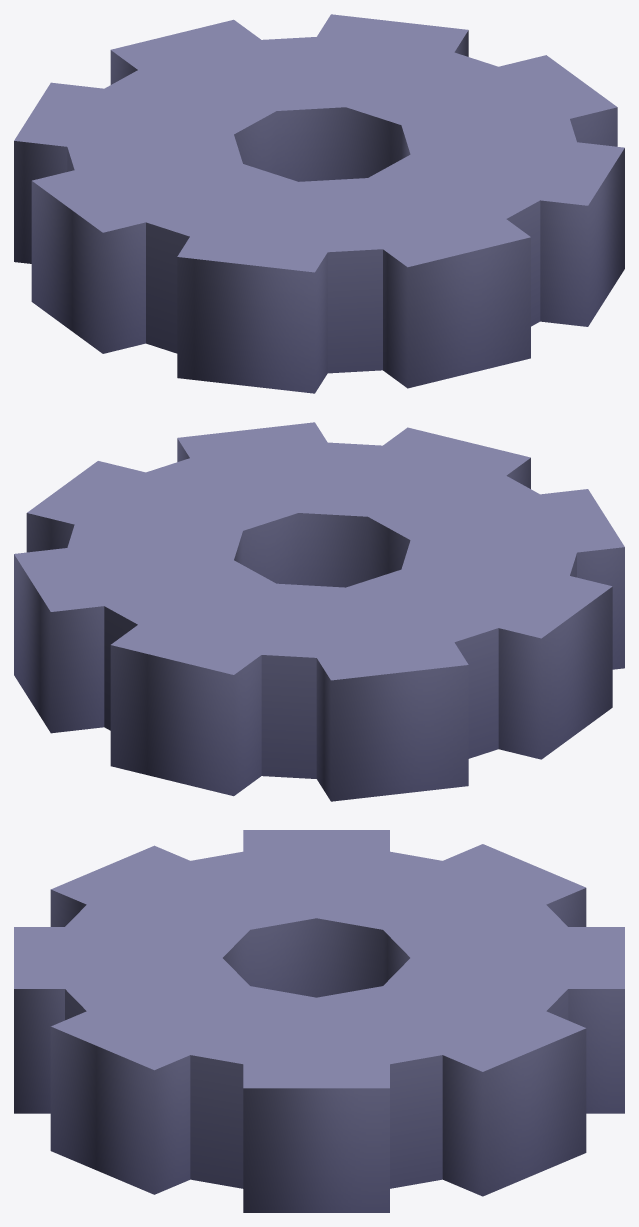
Rendered from kenney-factory-cog-c.glb.
3 renders of one model, top to bottom at view 1: azimuth 30°, elevation 25°; view 2: azimuth 150°, elevation 25°; view 3: azimuth 270°, elevation 25°, orthographic. The views are drawn at different scales.
Visible parts, largest first — view 1: cog-c; view 2: cog-c; view 3: cog-c.
Part boxes in pixels (bbox=[...]): cog-c: bbox=[14, 14, 624, 393]; cog-c: bbox=[14, 422, 624, 801]; cog-c: bbox=[14, 830, 624, 1212].
Bounding box in the file's own units: 1.5 × 0.3375 × 1.5.
1 material, 1 textured.
